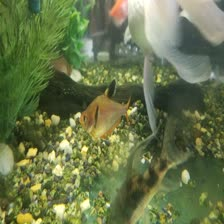Cuezo: (120, 0, 223, 109)
Kiros: (106, 117, 198, 215)
Transparente: (72, 77, 132, 140)
